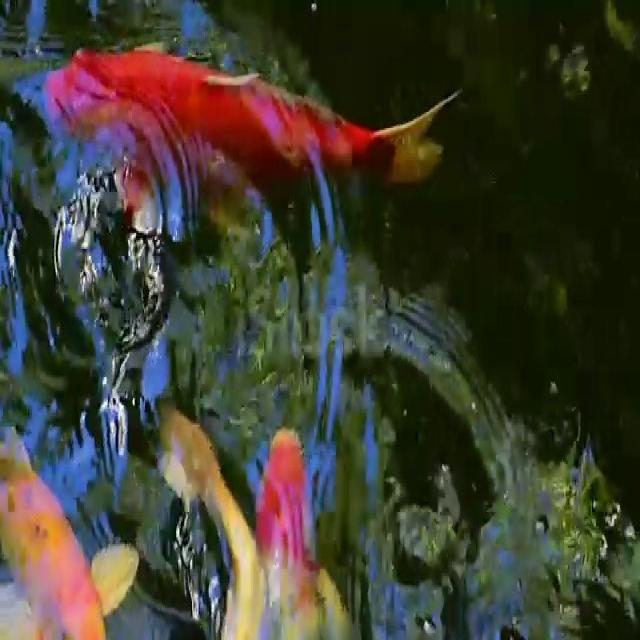fish: (54, 36, 461, 265), (4, 407, 140, 640), (247, 415, 326, 640)
